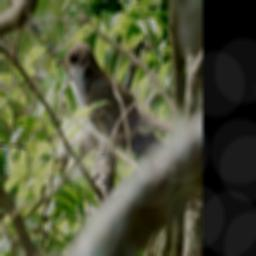Cuckoo: (56, 40, 178, 161)
